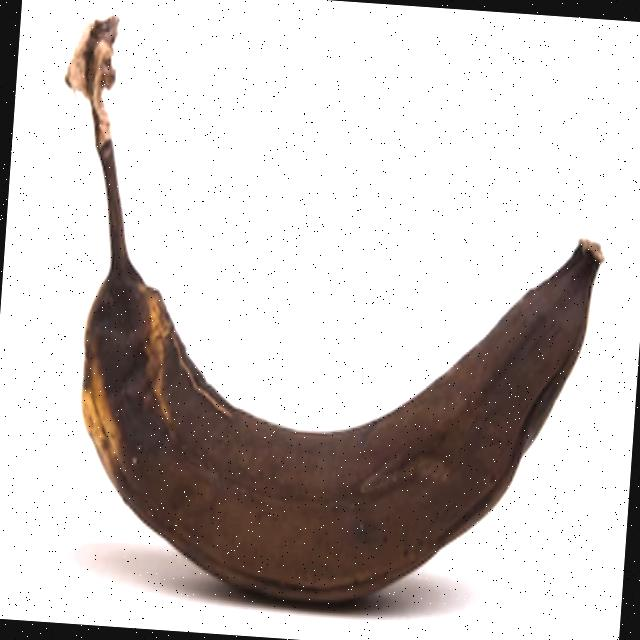rotten banana: (23, 68, 632, 631)
